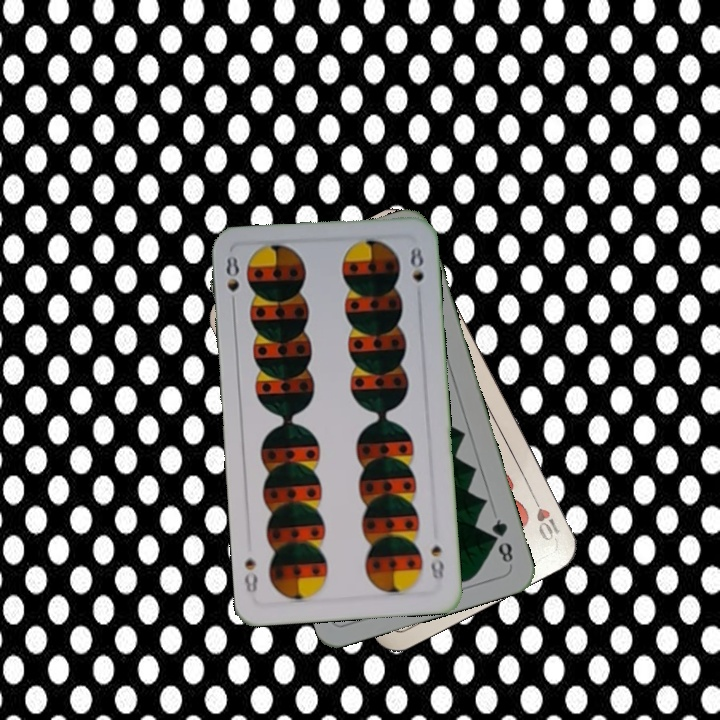G8: (487, 515, 516, 566)
H10: (526, 488, 563, 544)
S8: (221, 252, 242, 311), (427, 541, 447, 587)
